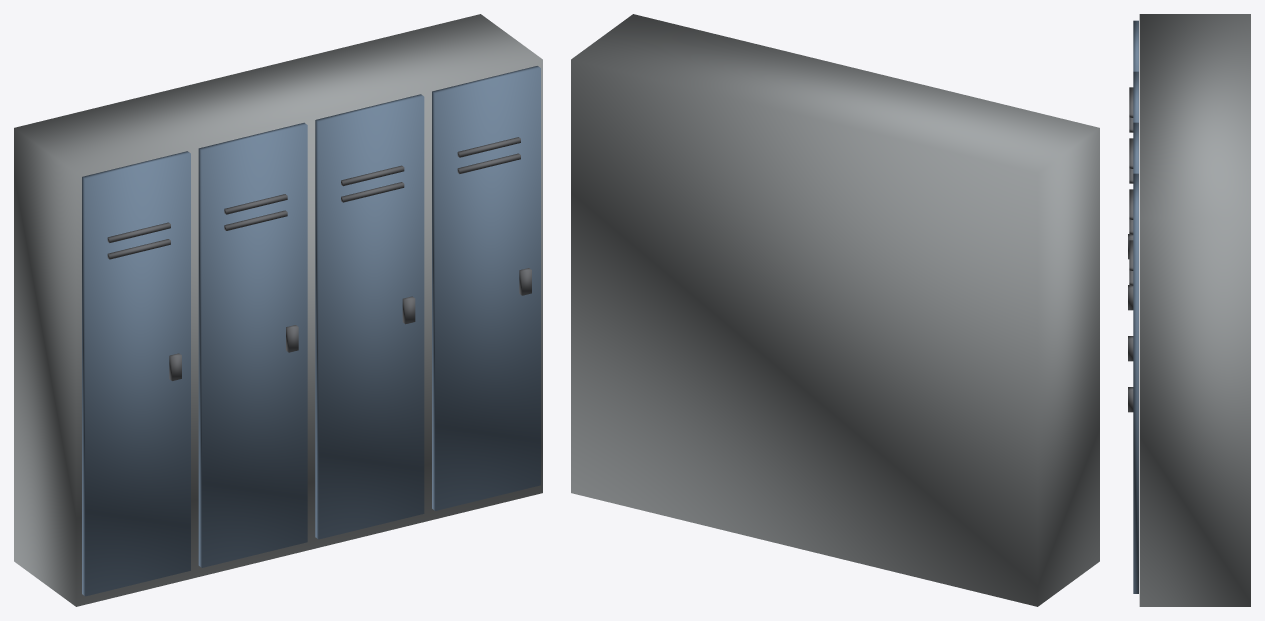
File: equipment_locker__wide.glb
3 renders of one model, left to right at view 1: azimuth 30°, elevation 25°; view 2: azimuth 150°, elevation 25°; view 3: azimuth 270°, elevation 25°, orthographic. The views are drawn at different scales.
Parts seen in each view (by area): view 1: world; view 2: world; view 3: world.
Part boxes in pixels (bbox=[...]): world: bbox=[14, 14, 542, 606]; world: bbox=[571, 14, 1099, 606]; world: bbox=[1128, 14, 1250, 606].
Bounding box in the file's own units: 2.08 × 1.85 × 0.53.
